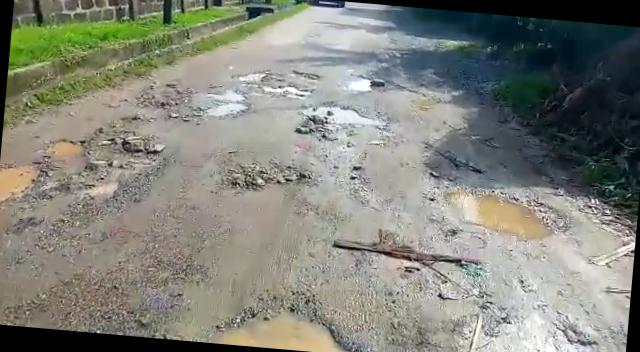pothole: (194, 292, 378, 352), (451, 183, 573, 244), (46, 126, 166, 180), (286, 100, 392, 142), (0, 159, 38, 209), (196, 90, 251, 122), (254, 82, 316, 100), (343, 73, 376, 96), (288, 68, 326, 80)
